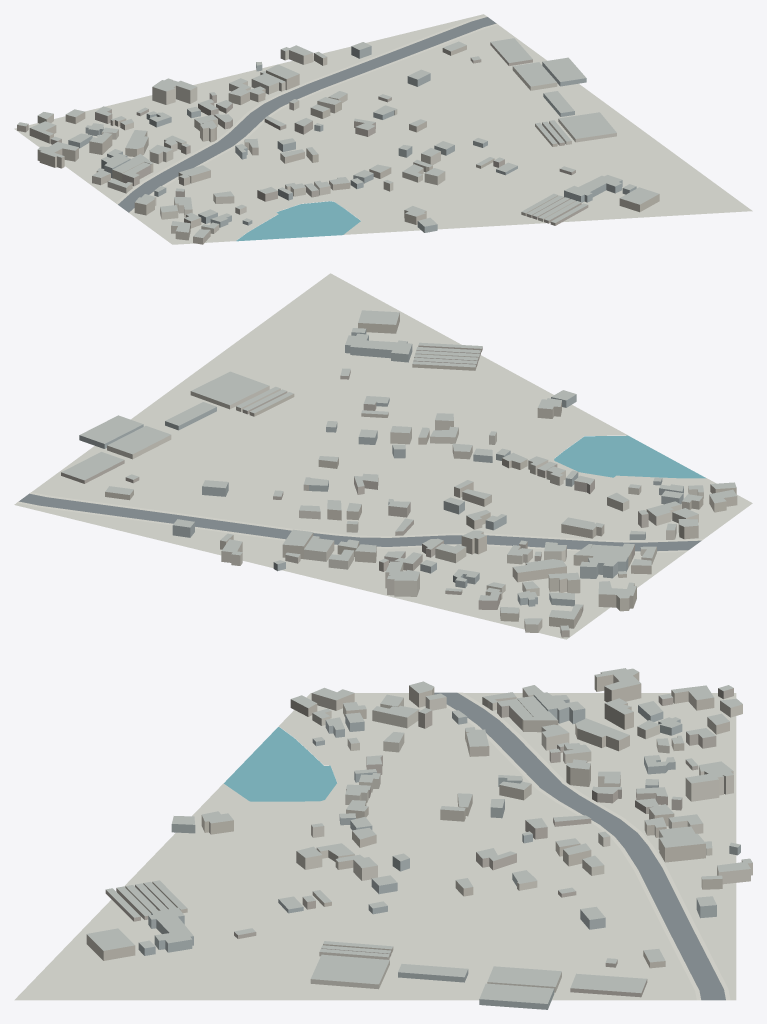
3 renders of one model, top to bottom at view 1: azimuth 30°, elevation 25°; view 2: azimuth 150°, elevation 25°; view 3: azimuth 270°, elevation 25°, orthographic. The views are drawn at different scales.
Parts seen in each view (by area): view 1: city; view 2: city; view 3: city.
Part boxes in pixels (x1,y1,x2,y2): city: (14, 14, 752, 244); city: (14, 273, 752, 639); city: (14, 668, 752, 1009).
Bounding box in the file's own units: 532 × 14.08 × 508.
